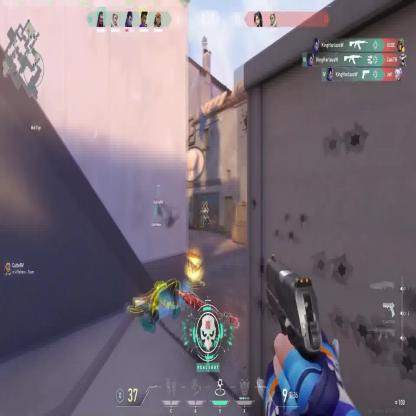enemy: (200, 200, 211, 228)
enemy_head: (204, 201, 209, 209)
